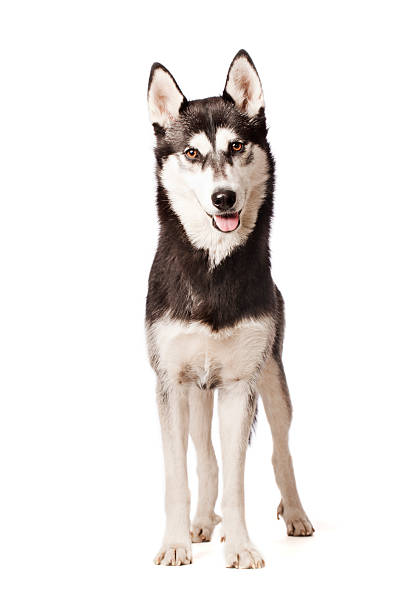husky: (118, 26, 325, 586)
